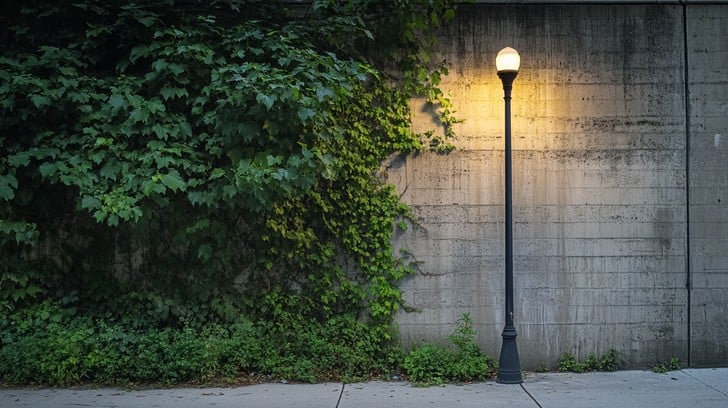light_pole: (490, 44, 530, 386)
